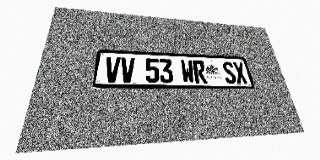3: (159, 59, 173, 83)
5: (146, 58, 160, 83)
R: (192, 60, 208, 83)
S: (221, 61, 237, 84)
V: (104, 56, 121, 82), (120, 57, 135, 83)
W: (180, 60, 195, 83)
X: (232, 62, 248, 84)
